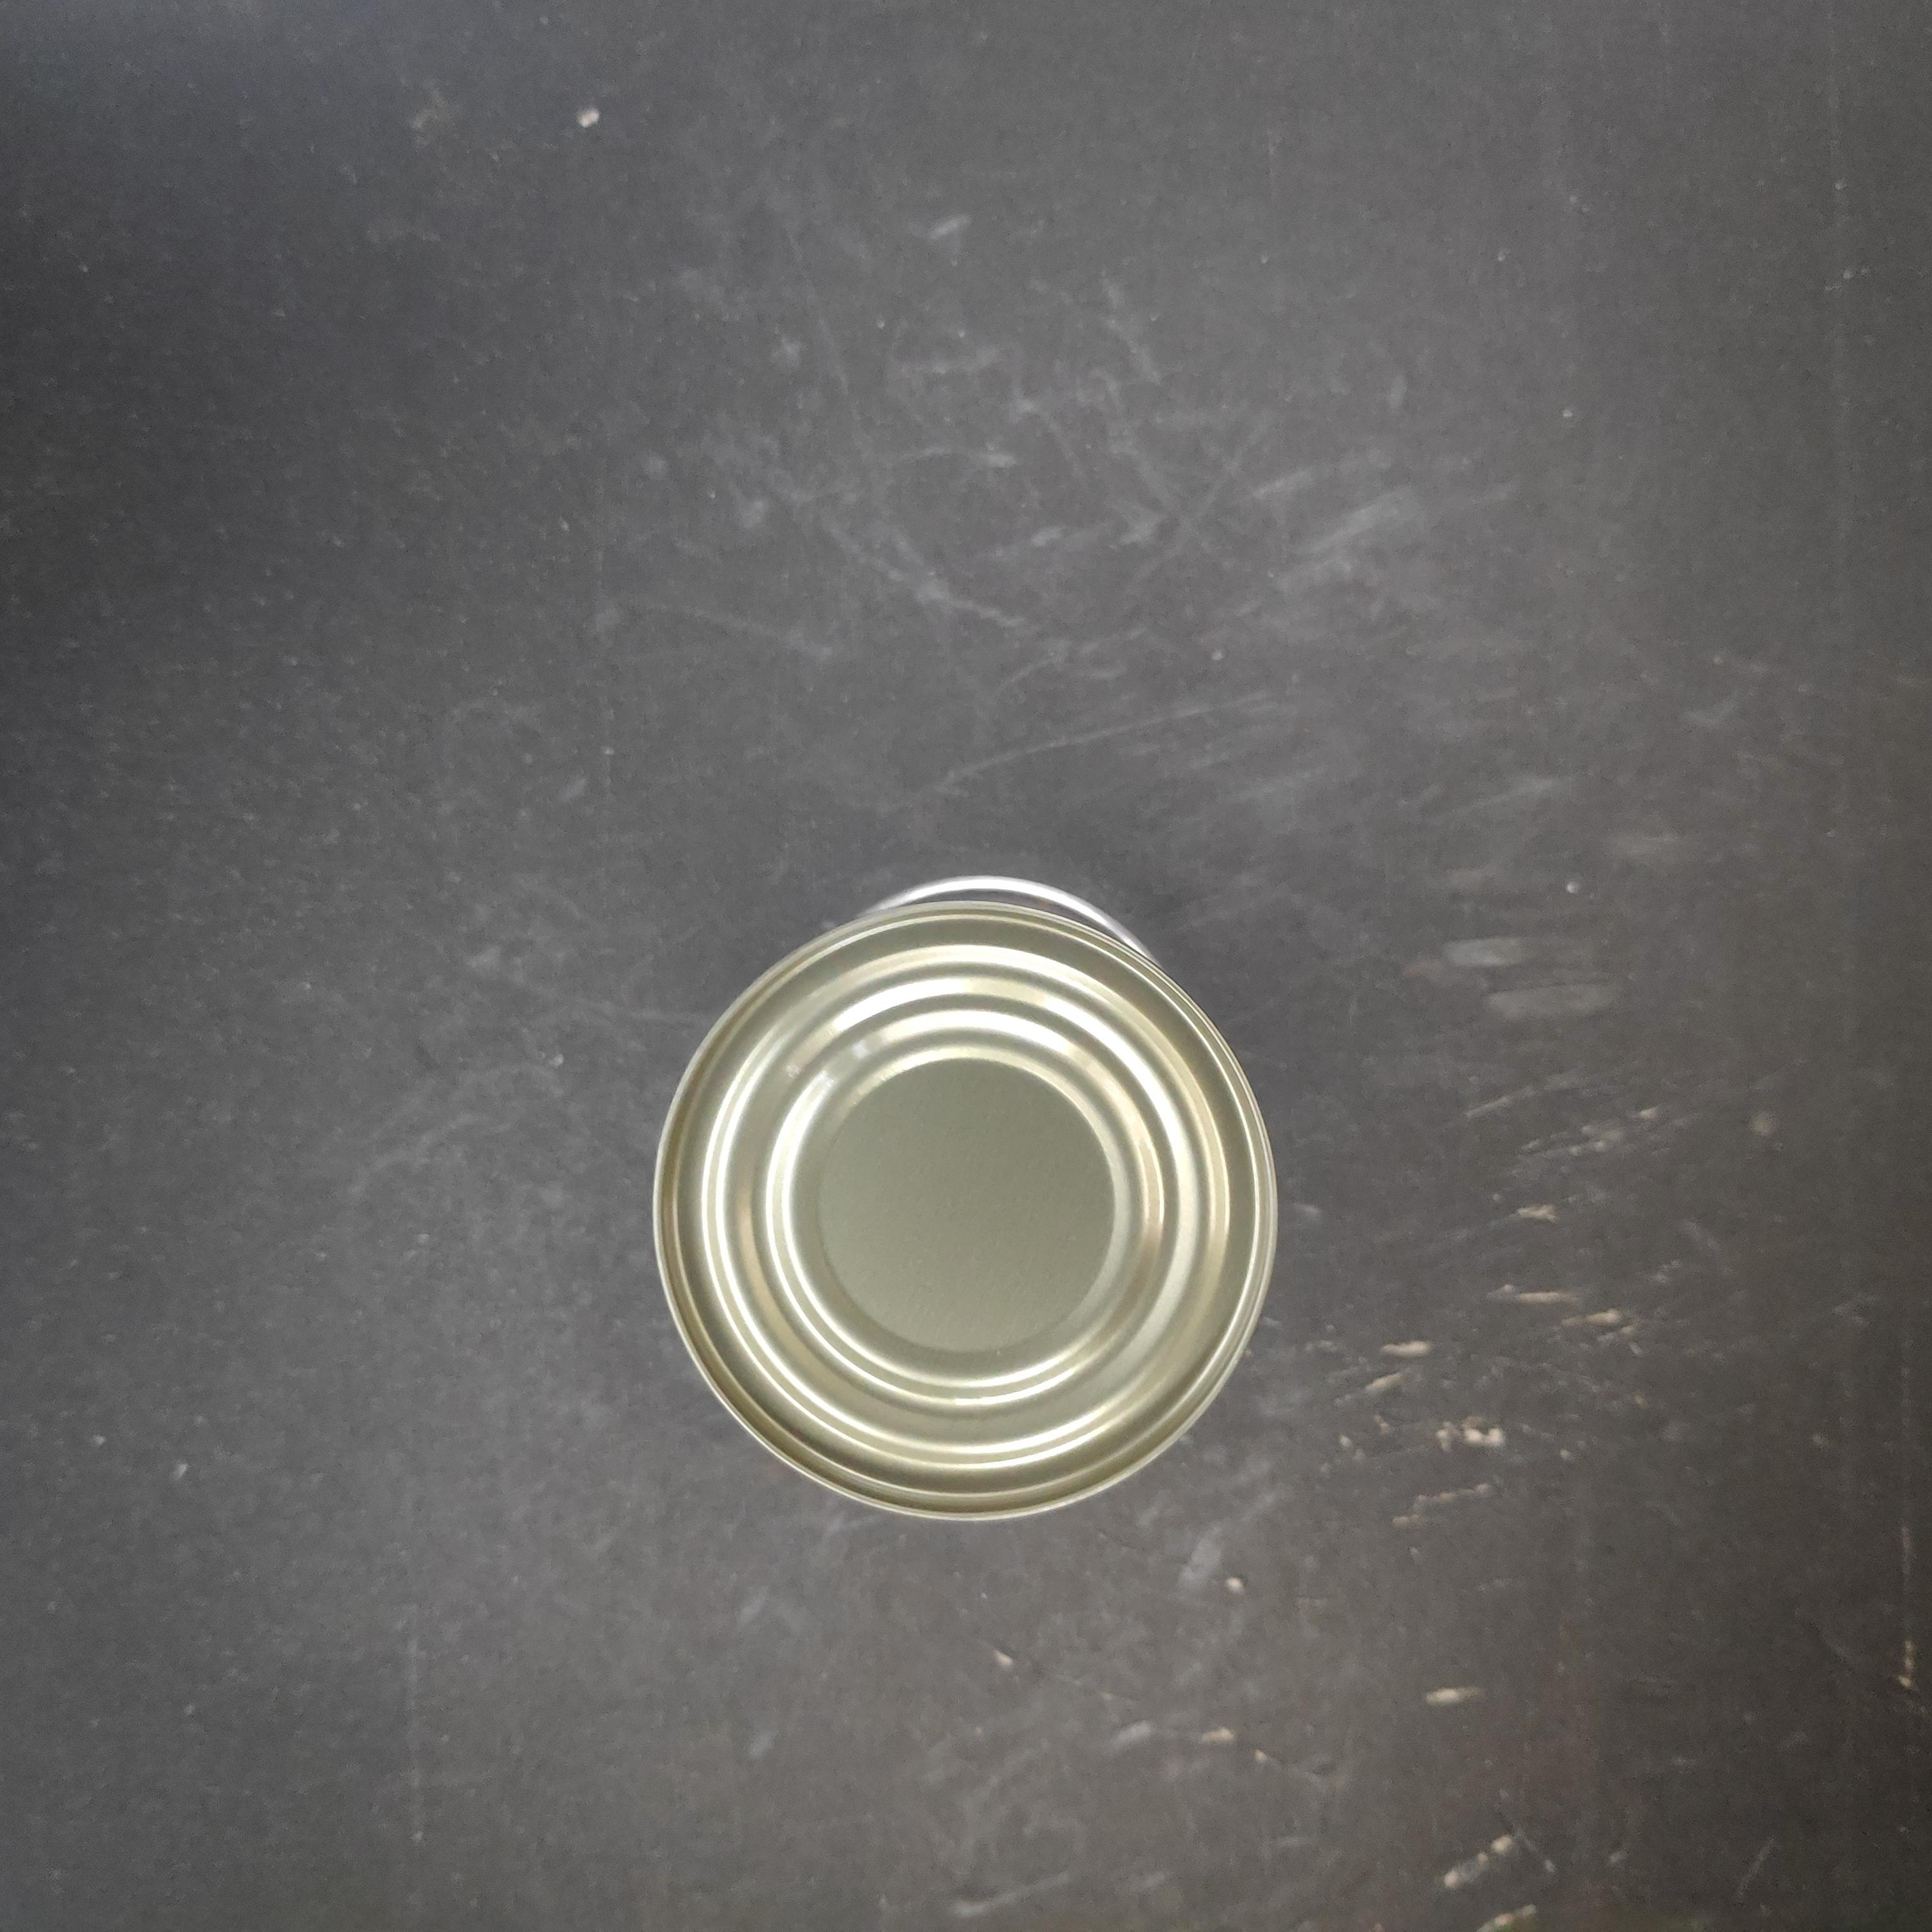No defect: (409, 649, 1062, 1281)
